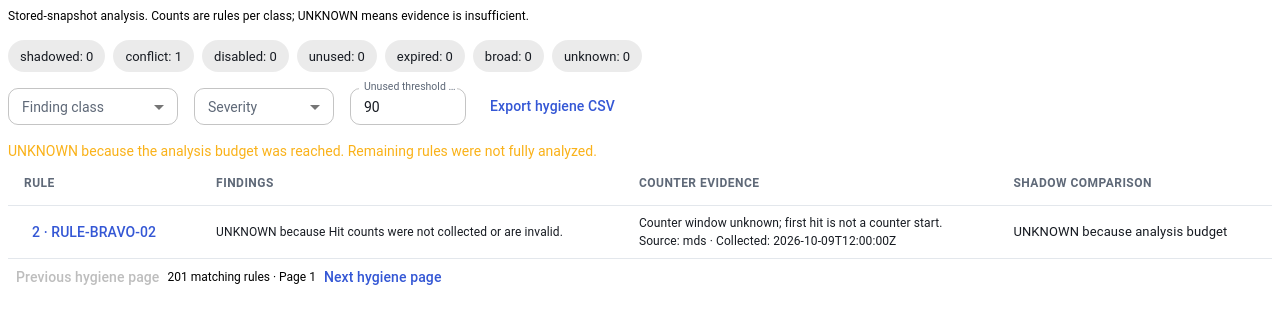
Scenario: renders explicit unknown, budget, pagination and empty states
Expected: the text "UNKNOWN because analysis budget" is shown, [997,205,1272,259]
Expected: the text "UNKNOWN because Hit counts" is shown, [216,224,607,240]
Click the button "Next hygiene page". click: {"x": 383, "y": 277}
box: [316,259,450,296]
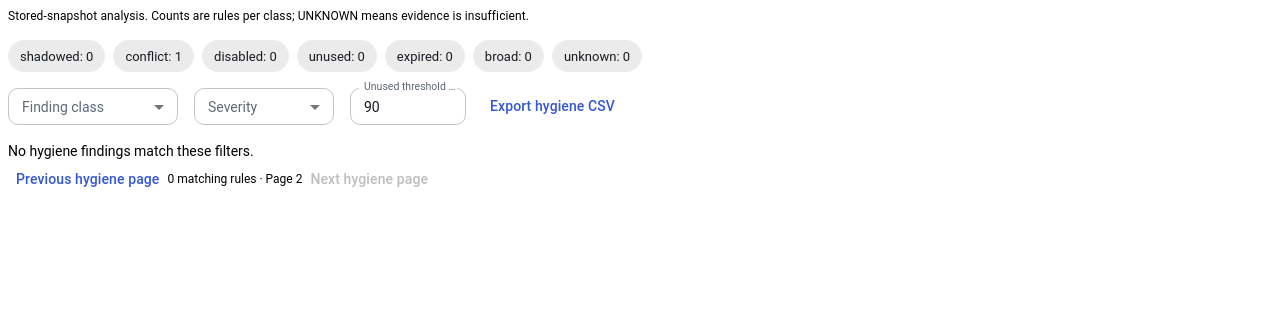
Now the text "No hygiene findings match these filters." is shown, box [8,143,254,159]
